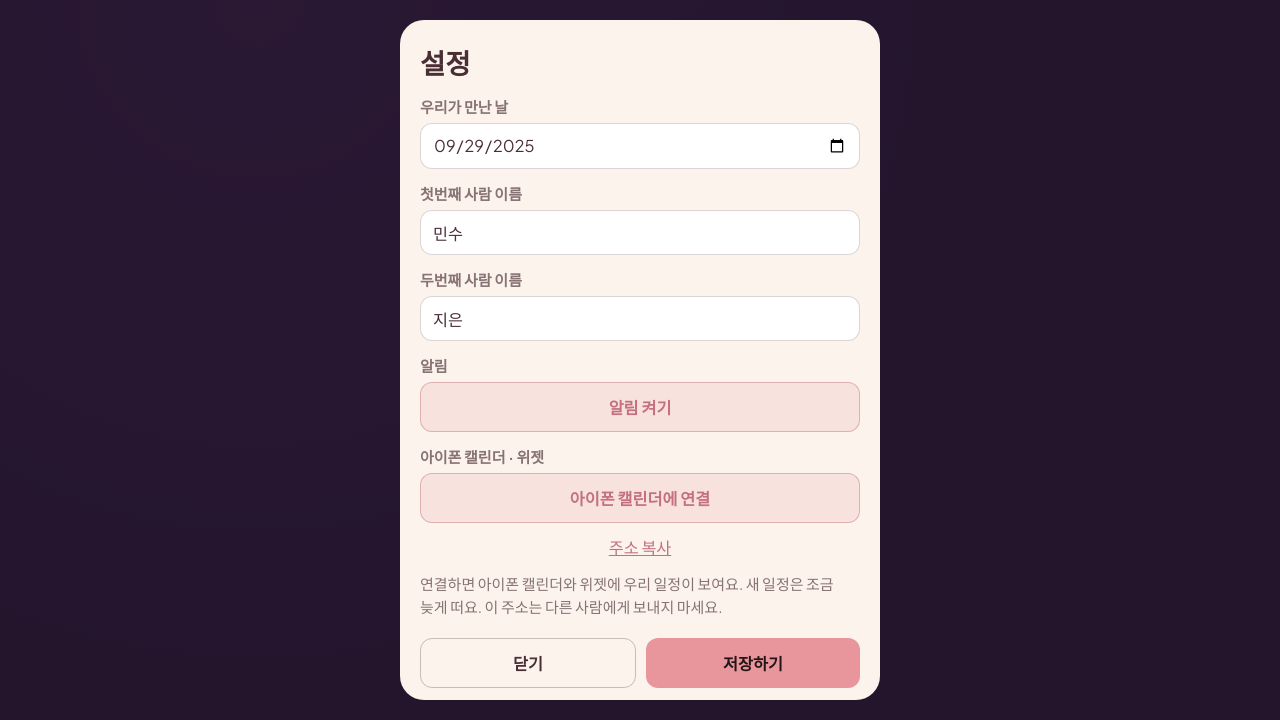
Test: SettingsModal › copies the calendar address
Click the button "주소 복사" at (640, 547), box x1=420 y1=529 x2=860 y2=565
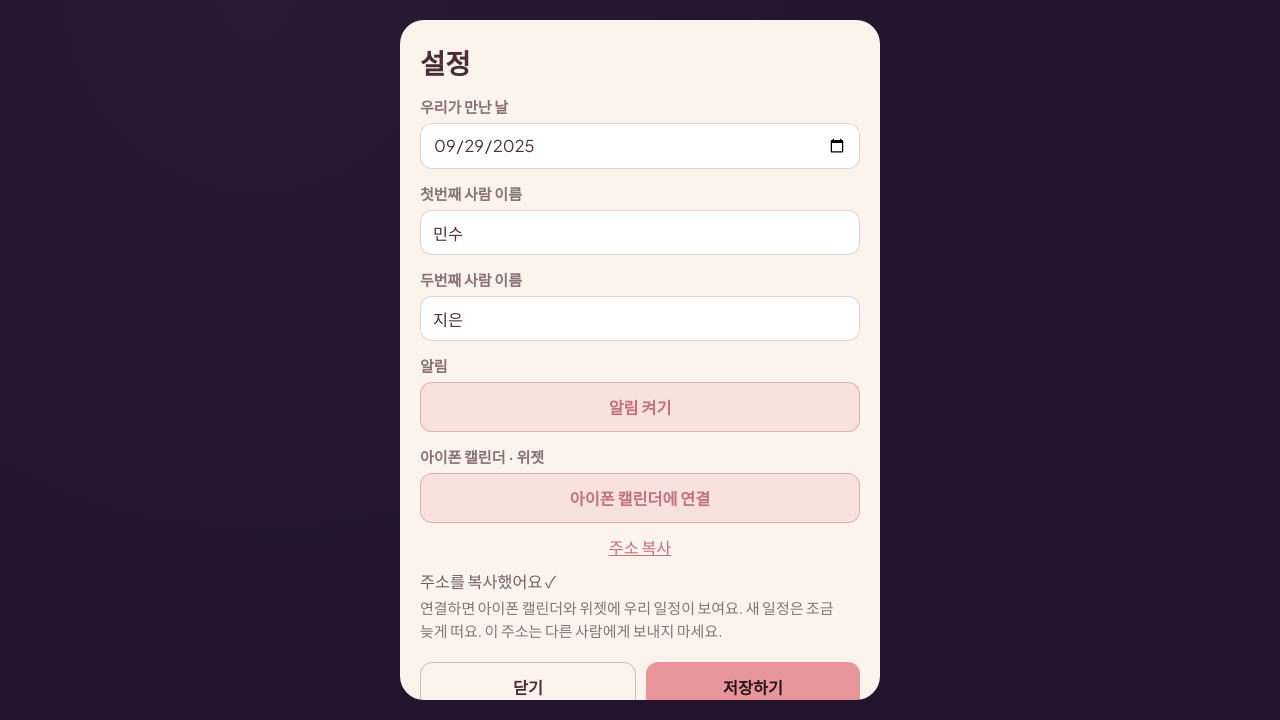
Expected: the text "주소를 복사했어요 ✓" is shown, x1=420 y1=571 x2=556 y2=592
